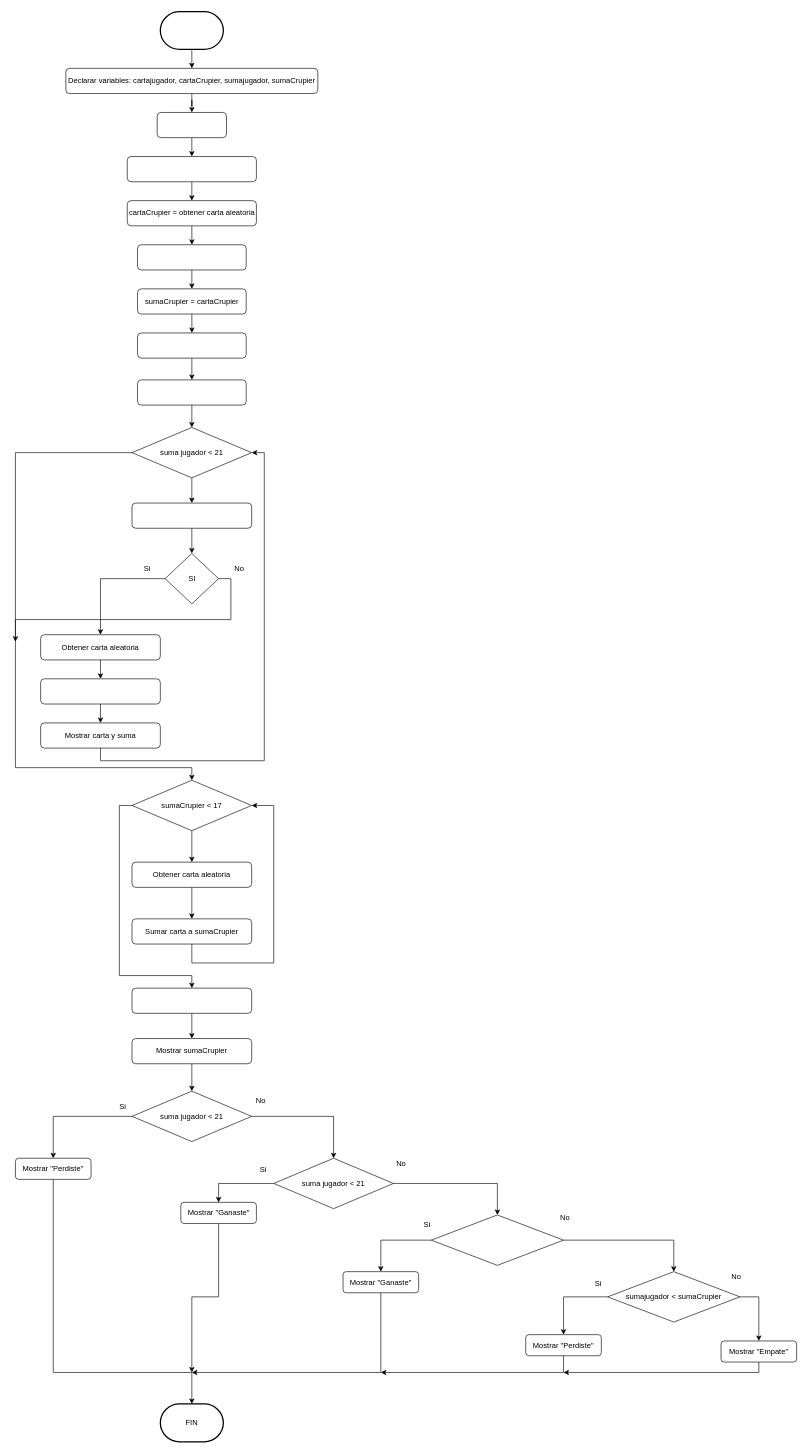
Image size: 808x1453. Some labels were removed from this diagram. The shapes that lost their labels are listed below. From the top down, each one's centre as x and y in pixels, then its label:
(x=191, y=30): INICIO
(x=191, y=125): Inicializar cartas
(x=191, y=169): cartajugador = obtener carta aleatoria
(x=191, y=257): sumajugador = cartajugador
(x=191, y=345): Mostrar cartajugador
(x=191, y=392): Mostrar cartaCrupier
(x=191, y=515): Preguntar si quiere otra carta
(x=100, y=691): Sumar carta a sumajugador
(x=191, y=1000): Mostrar sumajugador
(x=497, y=1239): sumajugador > sumaCrupier
